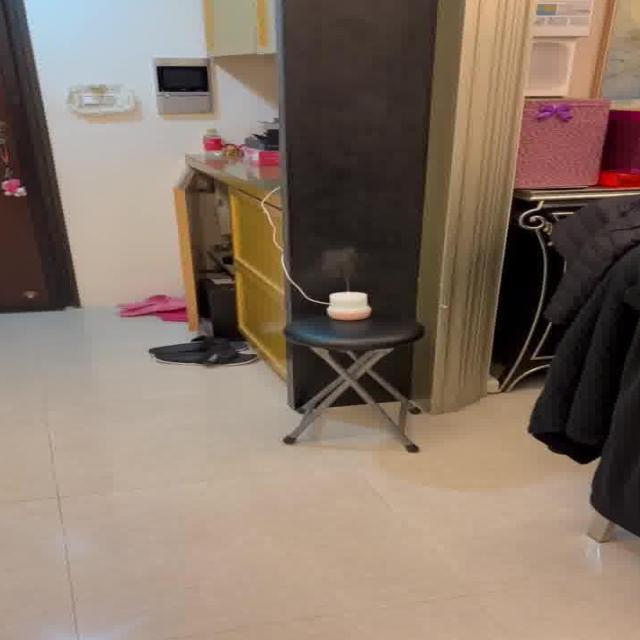fire: (312, 243, 370, 286)
